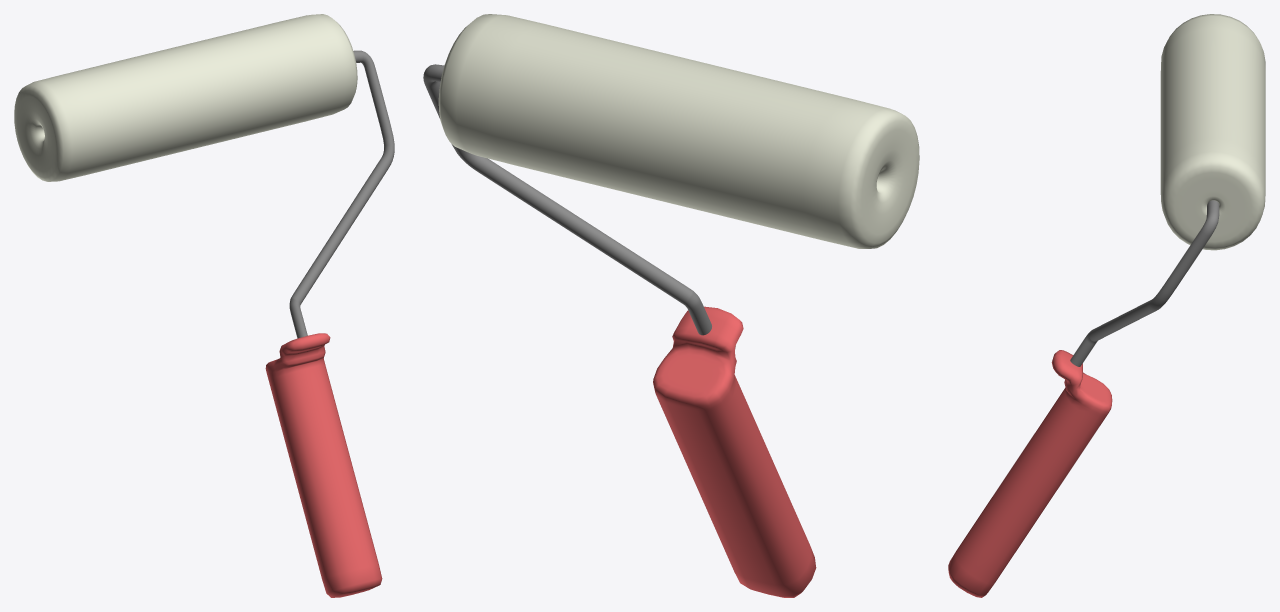
File: pennello_rullo.fbx
The picture shows the model from 3 angles, left to right: view 1: azimuth 30°, elevation 25°; view 2: azimuth 150°, elevation 25°; view 3: azimuth 270°, elevation 25°; orthographic projection. The views are drawn at different scales.
Visible parts, largest first — view 1: Roller, Paint Roller, Handle 1; view 2: Roller, Paint Roller, Handle 1; view 3: Roller, Paint Roller, Handle 1.
Part boxes in pixels (box(x1,y1,x2,y2)): Roller: box(14, 14, 357, 181); Paint Roller: box(265, 333, 382, 597); Handle 1: box(289, 50, 394, 338); Roller: box(438, 14, 919, 248); Paint Roller: box(653, 306, 816, 597); Handle 1: box(423, 64, 711, 335); Roller: box(1160, 14, 1265, 250); Paint Roller: box(948, 350, 1112, 597); Handle 1: box(1070, 200, 1219, 366).
Size of the model in its own units: 27.66 by 37.37 by 22.35.
